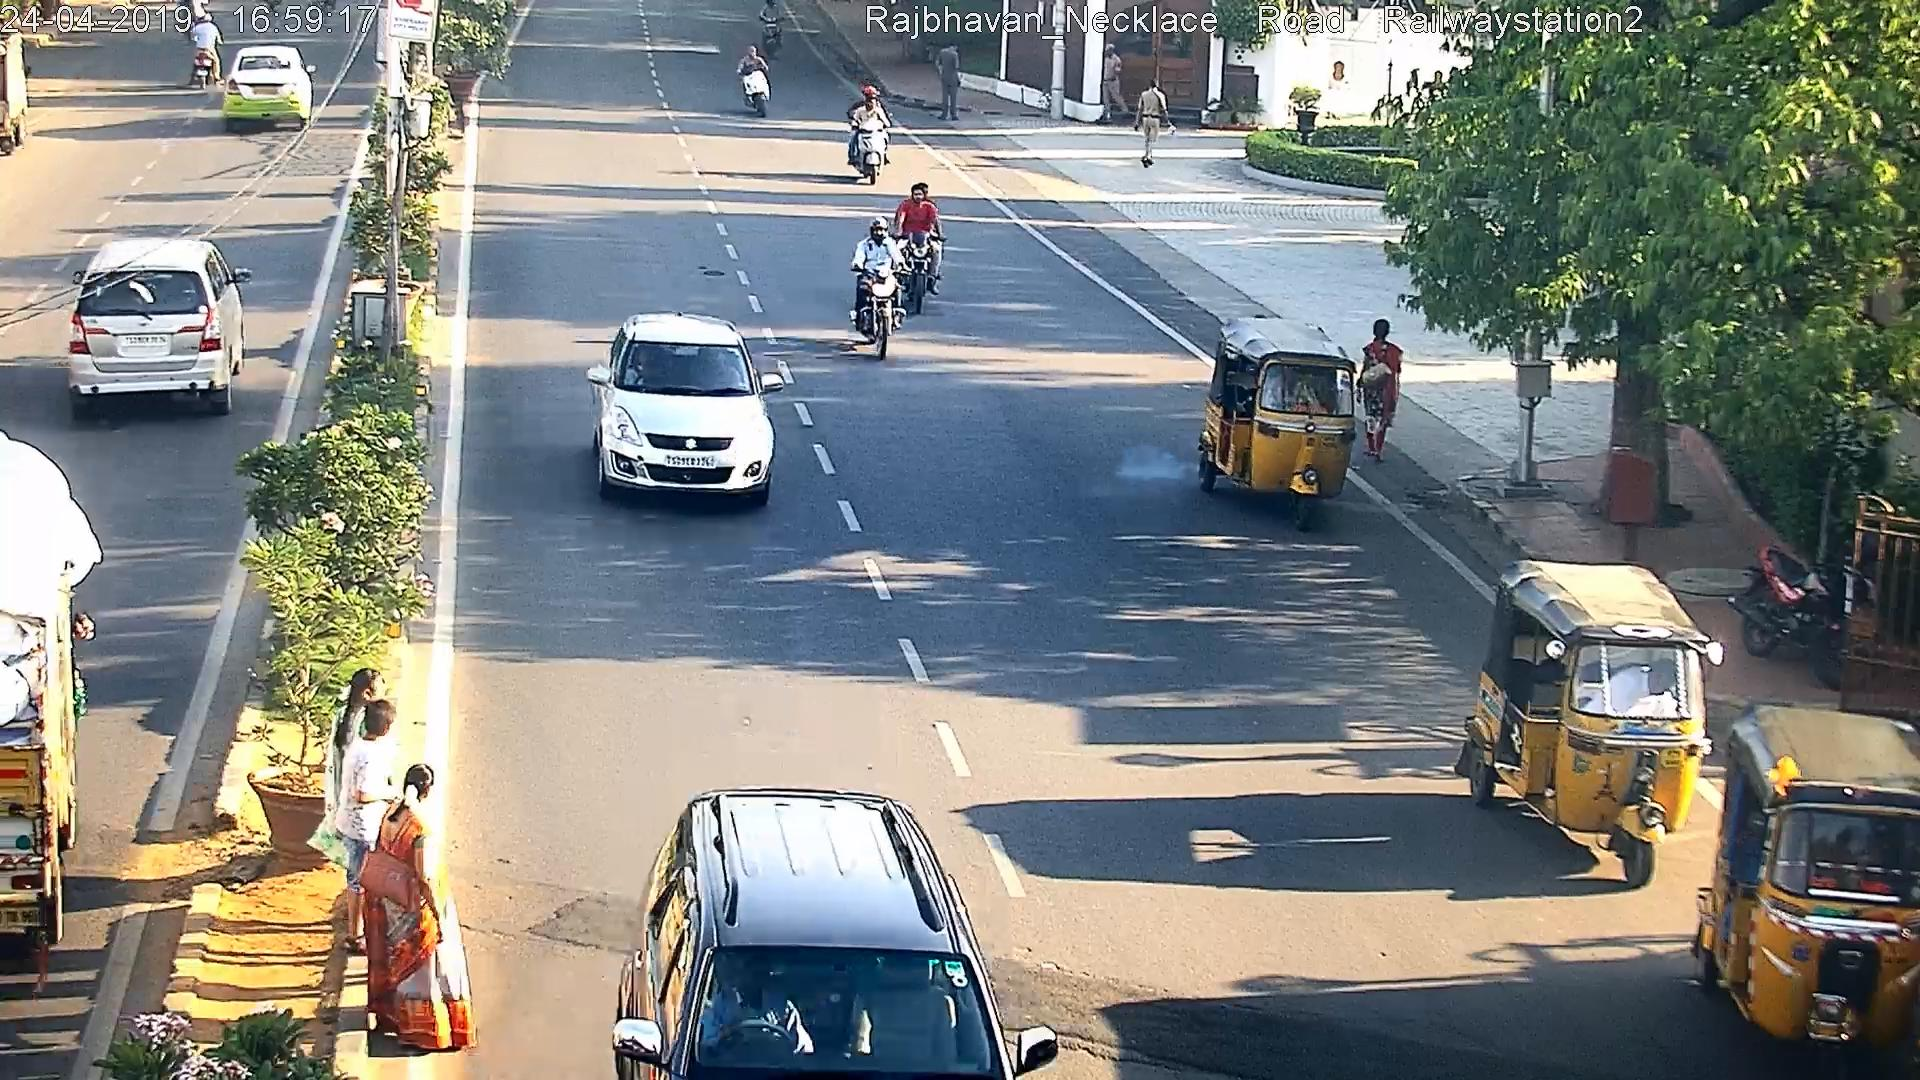2Wheeler: (851, 76, 905, 181), (732, 40, 778, 120), (728, 36, 774, 116), (731, 37, 775, 117), (727, 33, 771, 113)
